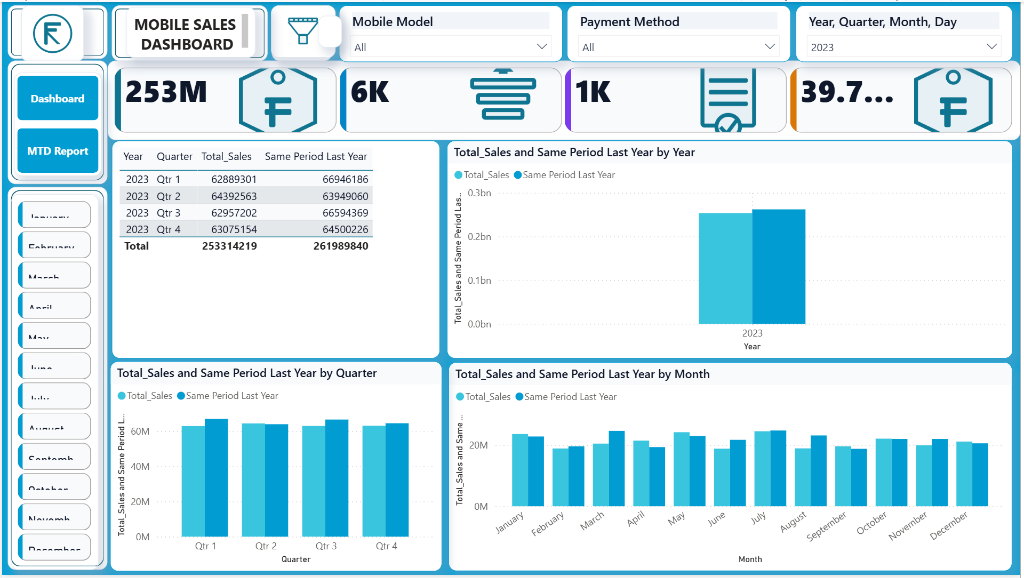

The dashboard page shown, as its layout file describes it:
{"tool":"powerbi","page":{"name":"Same Period Last Year","canvas":[1280,720],"ordinal":2},"visuals":[{"type":"shape","box":[7.5,3.8,125,67.5],"z":0},{"type":"image","box":[23.8,3.8,78.8,71.2],"z":1000},{"type":"shape","box":[7.5,73.8,125,155],"z":2000},{"type":"cardVisual","fields":{"Data":["Sales_Data.Total_Sales","Sales_Data.Total_Quantity","Sales_Data.Transactions","Sales_Data.Average_Price"]},"box":[132.5,73.8,1147.5,100],"z":3000},{"type":"slicer","fields":{"Values":["Sales_Data.Mobile Model"]},"box":[423.8,3.8,281.2,71.2],"z":4000},{"type":"slicer","fields":{"Values":["Sales_Data.Payment Method"]},"box":[710,3.8,281.2,71.2],"z":5000},{"type":"slicer","fields":{"Values":["Custom_Calendar.Date.Variation.Date Hierarchy.Year","Custom_Calendar.Date.Variation.Date Hierarchy.Quarter","Custom_Calendar.Date.Variation.Date Hierarchy.Month","Custom_Calendar.Date.Variation.Date Hierarchy.Day"]},"box":[997.5,3.8,272.5,71.2],"z":6000},{"type":"shape","box":[338.8,3.8,76.2,70],"z":7000},{"type":"image","box":[337.5,3.8,81.2,66.2],"z":8000},{"type":"shape","box":[397.5,17.5,30,40],"z":9000},{"type":"shape","box":[137.5,3.8,196.2,70],"z":10000},{"type":"textbox","box":[156.2,6.2,162.5,63.8],"z":11000},{"type":"shape","box":[7.5,232.5,125,481.2],"z":13000},{"type":"advancedSlicerVisual","fields":{"Values":["Custom_Calendar.Date.Variation.Date Hierarchy.Month"]},"box":[11.2,241.2,110,472.5],"z":14000},{"type":"tableEx","fields":{"Values":["Custom_Calendar.Date.Variation.Date Hierarchy.Year","Custom_Calendar.Date.Variation.Date Hierarchy.Quarter","Sales_Data.Total_Sales","Sales_Data.Same Period Last Year"]},"box":[137.5,173.8,412.5,273.8],"z":14001},{"type":"clusteredColumnChart","fields":{"Category":["Custom_Calendar.Date.Variation.Date Hierarchy.Year","Custom_Calendar.Date.Variation.Date Hierarchy.Quarter"],"Y":["Sales_Data.Total_Sales","Sales_Data.Same Period Last Year"]},"box":[558.8,173.8,711.2,273.8],"z":14002},{"type":"clusteredColumnChart","fields":{"Y":["Sales_Data.Total_Sales","Sales_Data.Same Period Last Year"],"Category":["Custom_Calendar.Date.Variation.Date Hierarchy.Year","Custom_Calendar.Date.Variation.Date Hierarchy.Quarter","Custom_Calendar.Date.Variation.Date Hierarchy.Month","Custom_Calendar.Date.Variation.Date Hierarchy.Day"]},"box":[561.2,452.5,708.8,262.5],"z":14003},{"type":"clusteredColumnChart","fields":{"Category":["Custom_Calendar.Date.Variation.Date Hierarchy.Year","Custom_Calendar.Date.Variation.Date Hierarchy.Quarter"],"Y":["Sales_Data.Total_Sales","Sales_Data.Same Period Last Year"]},"box":[136.2,451.2,417.5,263.8],"z":14004},{"type":"pageNavigator","box":[15,88.8,110,130],"z":14005}]}

Visuals, with their boxes in screenshot pixels (x1, y1, x2, y2), scaled from the page's 1280x720 canvas onto the 1024x578 screenshot:
shape: 6:3:106:57
image: 19:3:82:60
shape: 6:59:106:184
cardVisual - Sales_Data.Total_Sales x Sales_Data.Total_Quantity: 106:59:1023:140
slicer - Sales_Data.Mobile Model: 339:3:564:60
slicer - Sales_Data.Payment Method: 568:3:793:60
slicer - Custom_Calendar.Date.Variation.Date Hierarchy.Year x Custom_Calendar.Date.Variation.Date Hierarchy.Quarter: 798:3:1016:60
shape: 271:3:332:59
image: 270:3:335:56
shape: 318:14:342:46
shape: 110:3:267:59
textbox: 125:5:255:56
shape: 6:187:106:573
advancedSlicerVisual - Custom_Calendar.Date.Variation.Date Hierarchy.Month: 9:194:97:573
tableEx - Custom_Calendar.Date.Variation.Date Hierarchy.Year x Custom_Calendar.Date.Variation.Date Hierarchy.Quarter: 110:140:440:359
clusteredColumnChart - Custom_Calendar.Date.Variation.Date Hierarchy.Year x Custom_Calendar.Date.Variation.Date Hierarchy.Quarter: 447:140:1016:359
clusteredColumnChart - Sales_Data.Total_Sales x Sales_Data.Same Period Last Year: 449:363:1016:574
clusteredColumnChart - Custom_Calendar.Date.Variation.Date Hierarchy.Year x Custom_Calendar.Date.Variation.Date Hierarchy.Quarter: 109:362:443:574
pageNavigator: 12:71:100:176
